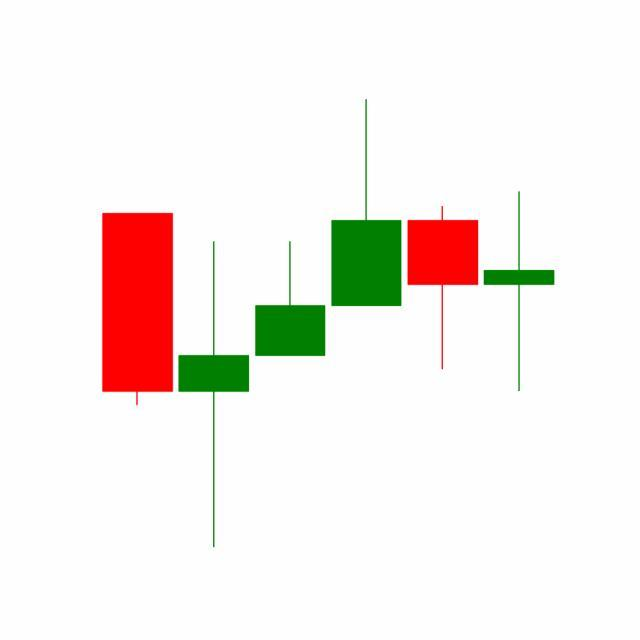Hammer: (404, 204, 482, 372)
